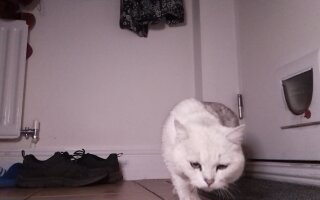bad: (158, 97, 249, 196)
